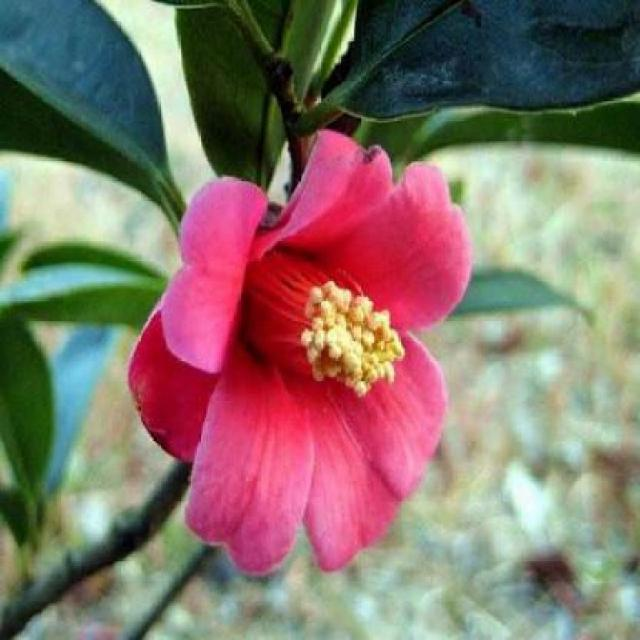flower: (135, 142, 476, 586)
